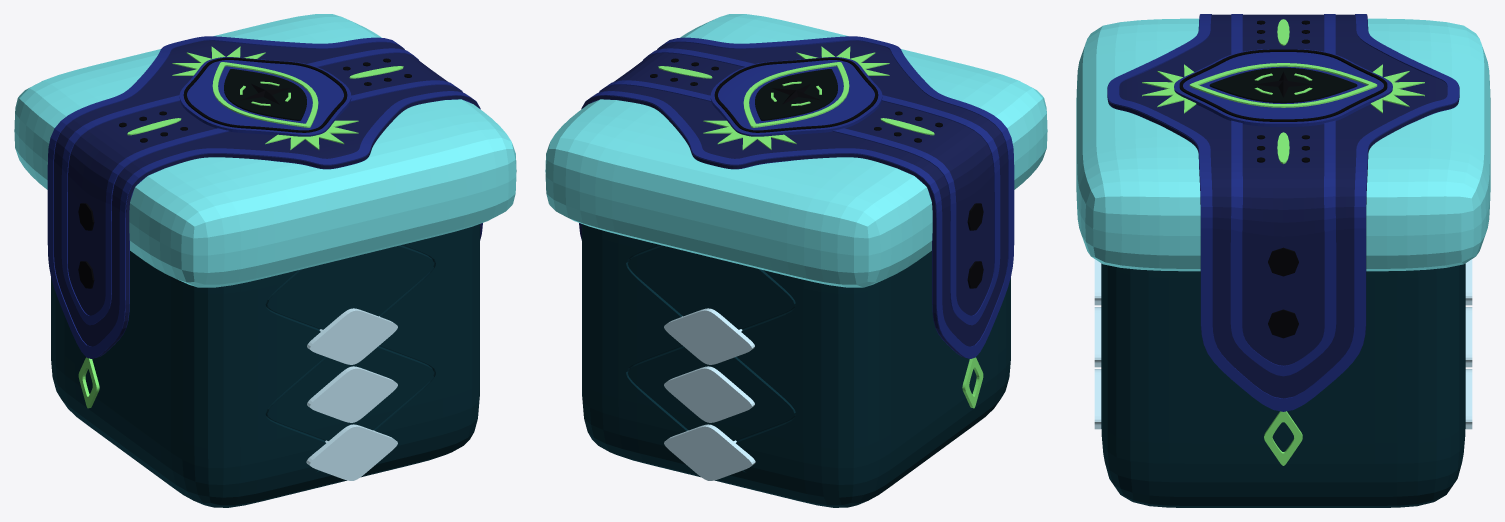
The model's file is st3_ground4.fbx.
3 views of the same model, side by side, from view 1: azimuth 30°, elevation 25°; view 2: azimuth 150°, elevation 25°; view 3: azimuth 270°, elevation 25° (orthographic). The views are drawn at different scales.
Visible parts, largest first — view 1: block3_carpet_1; view 2: block3_carpet_1; view 3: block3_carpet_1.
Part boxes in pixels (bbox=[...]): block3_carpet_1: bbox=[14, 14, 516, 507]; block3_carpet_1: bbox=[545, 14, 1047, 507]; block3_carpet_1: bbox=[1076, 14, 1490, 507].
Size of the model in its own units: 243 by 223 by 227.
